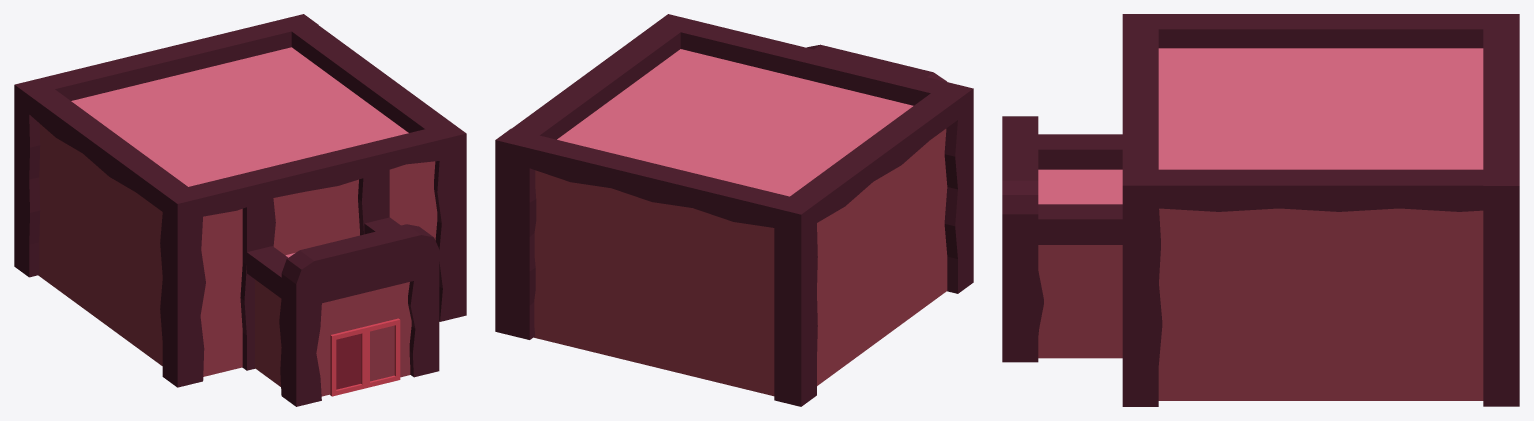
File: Bar building.fbx
3 views of the same model, side by side, from view 1: azimuth 30°, elevation 25°; view 2: azimuth 150°, elevation 25°; view 3: azimuth 270°, elevation 25° (orthographic). The views are drawn at different scales.
Parts seen in each view (by area): view 1: Cube.002; view 2: Cube.002; view 3: Cube.002.
Part boxes in pixels (x1,y1,x2,y2): Cube.002: (14, 14, 466, 406); Cube.002: (495, 14, 973, 406); Cube.002: (1002, 14, 1519, 406).
Bounding box in the file's own units: 1846 × 1120 × 2348.
